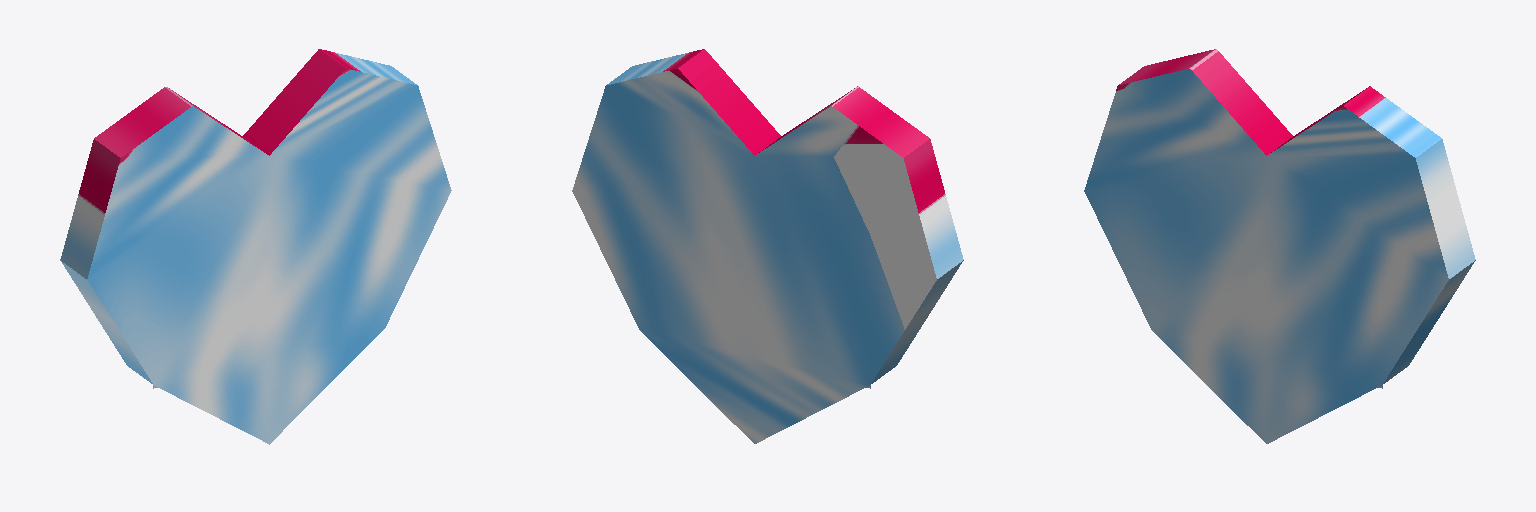
3 views of the same model, side by side, from view 1: azimuth 30°, elevation 25°; view 2: azimuth 150°, elevation 25°; view 3: azimuth 330°, elevation 25° (orthographic).
Size of the model in its own units: 18.62 by 17.44 by 2.39.
2 materials, 1 textured.